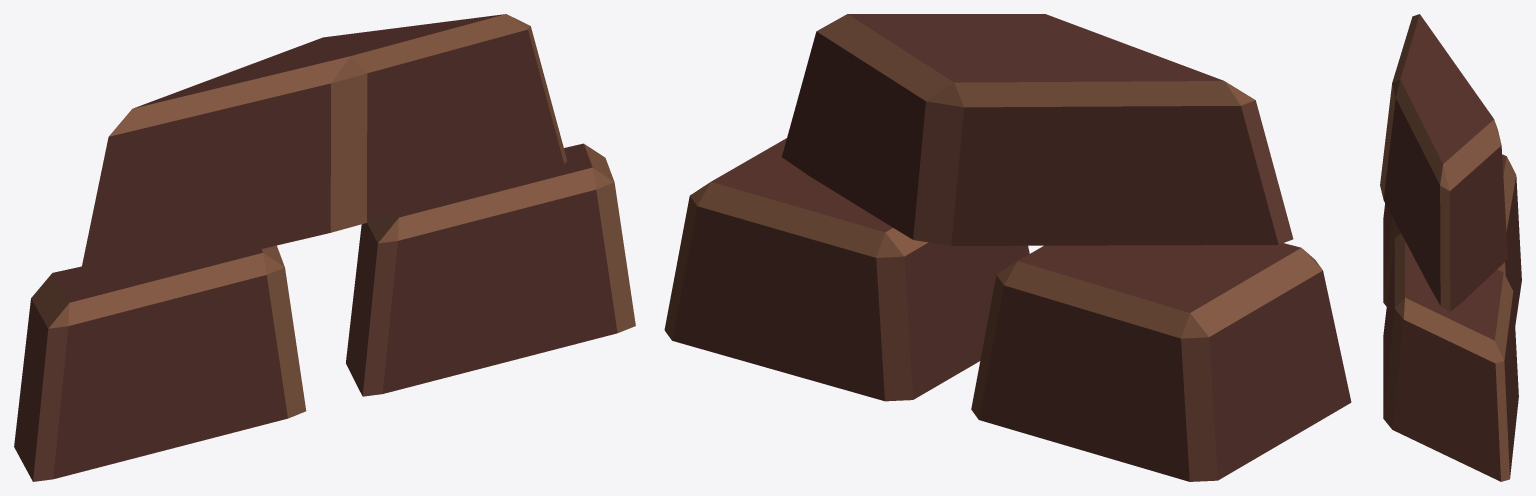
File: icon_stone_wood.fbx
The picture shows the model from 3 angles, left to right: view 1: azimuth 30°, elevation 25°; view 2: azimuth 150°, elevation 25°; view 3: azimuth 270°, elevation 25°; orthographic projection. The views are drawn at different scales.
Parts seen in each view (by area): view 1: icon_stone; view 2: icon_stone; view 3: icon_stone.
Part boxes in pixels (box(x1,y1,x2,y2)): icon_stone: box(14, 14, 635, 481); icon_stone: box(664, 14, 1351, 481); icon_stone: box(1380, 14, 1521, 481).
Size of the model in its own units: 39.07 by 21.64 by 9.7.
